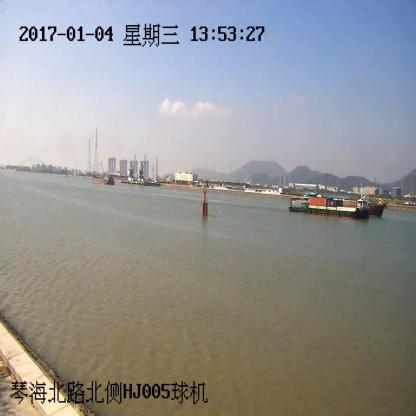Container Ship: (291, 192, 369, 219)
